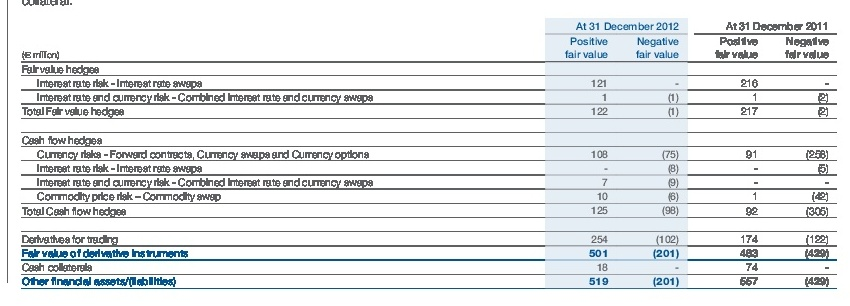table: (0, 0, 850, 306)
